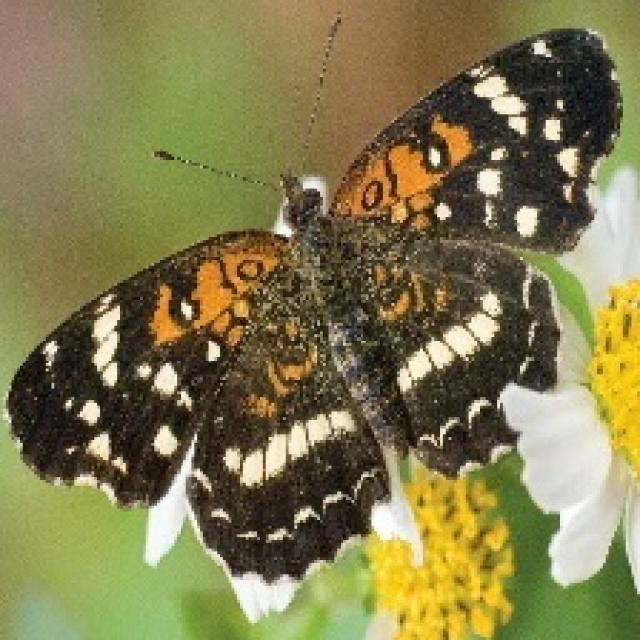butterfly: (3, 8, 623, 623)
